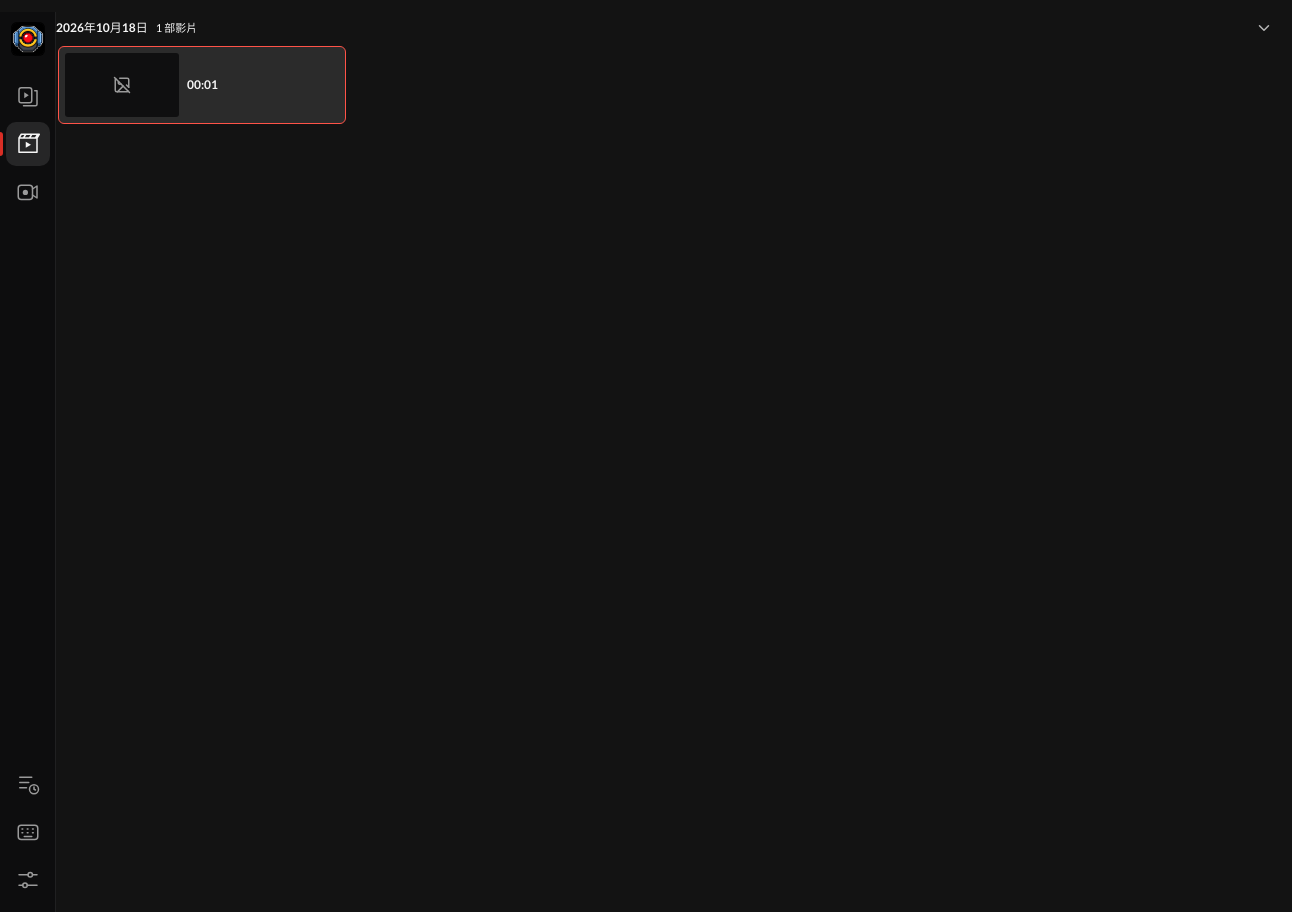
Test: Same-day video list › reports failure to save the collapse preference: 拒絕
The width and height of the screenshot is (1292, 912).
Click the button named "收合同日影片".
click(1264, 28)  # box [1248,12,1280,44]
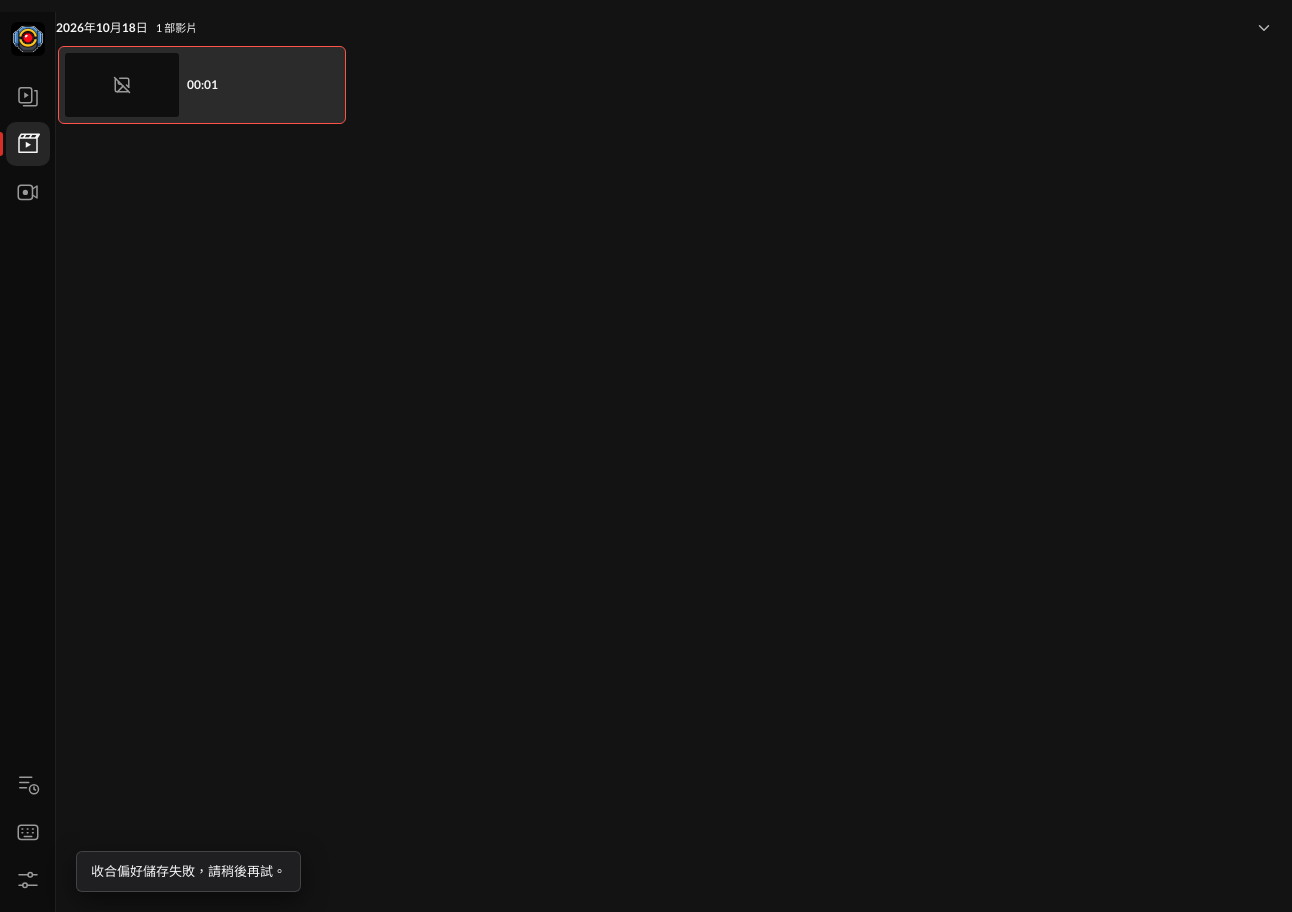
Expected: the element with class "toast" shows "儲存失敗", [91,862,286,878]
